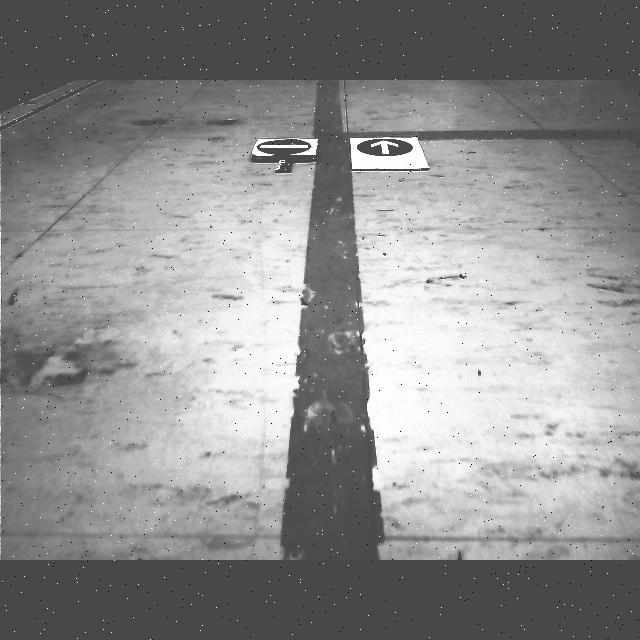GO FORWARD: (357, 139, 412, 156)
NO ENTRY: (257, 139, 310, 154)
